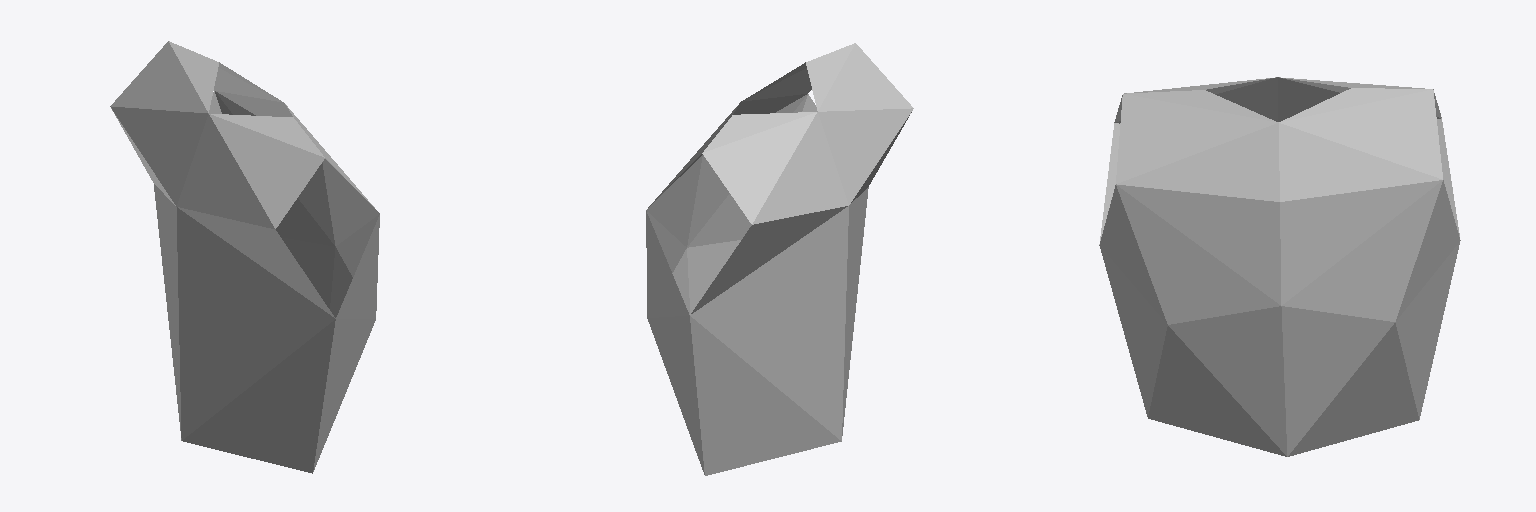
Rendered from armorleathershirtbrown.obj.
3 renders of one model, left to right at view 1: azimuth 30°, elevation 25°; view 2: azimuth 150°, elevation 25°; view 3: azimuth 270°, elevation 25°, orthographic.
Visible parts, largest first — view 1: object 1; view 2: object 1; view 3: object 1.
Boxes of the visible parts, x1=… form: object 1: x1=110, y1=41, x2=379, y2=473; object 1: x1=646, y1=43, x2=913, y2=475; object 1: x1=1099, y1=77, x2=1460, y2=456.
Bounding box in the file's own units: 0.3057 × 0.6098 × 0.5956.